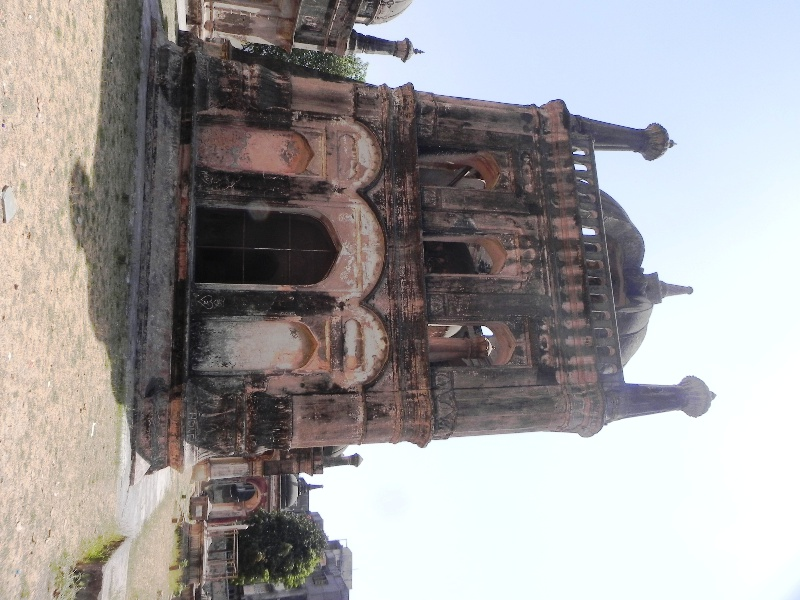Spalling: (300, 310, 331, 362)
